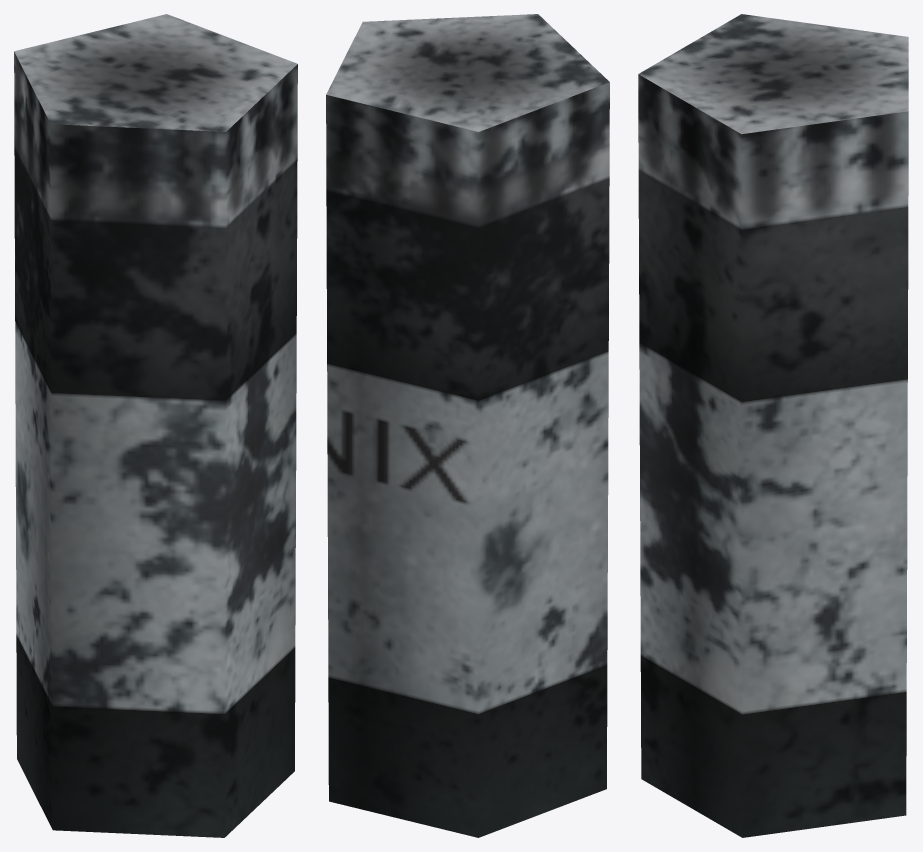
File: medicine_tiny_E.fbx
The picture shows the model from 3 angles, left to right: view 1: azimuth 30°, elevation 25°; view 2: azimuth 150°, elevation 25°; view 3: azimuth 270°, elevation 25°; orthographic projection.
Parts seen in each view (by area): view 1: medicine_tiny_E; view 2: medicine_tiny_E; view 3: medicine_tiny_E.
Boxes of the visible parts, x1,y1,x2,y2 form: medicine_tiny_E: (14, 14, 297, 837); medicine_tiny_E: (326, 14, 609, 837); medicine_tiny_E: (638, 14, 908, 837).
Size of the model in its own units: 3.84 by 10.49 by 3.65.
